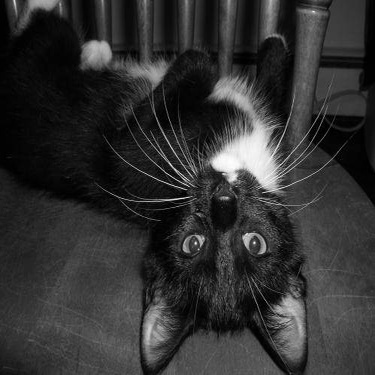cat: (19, 36, 336, 365)
